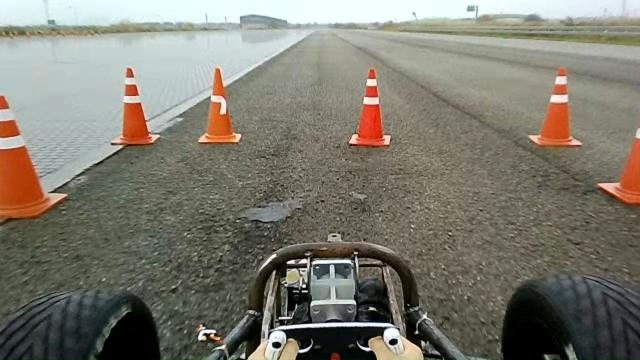red cone: (0, 94, 68, 219), (527, 66, 583, 147), (110, 65, 160, 146), (348, 68, 392, 148), (197, 66, 242, 144), (597, 126, 639, 204)
